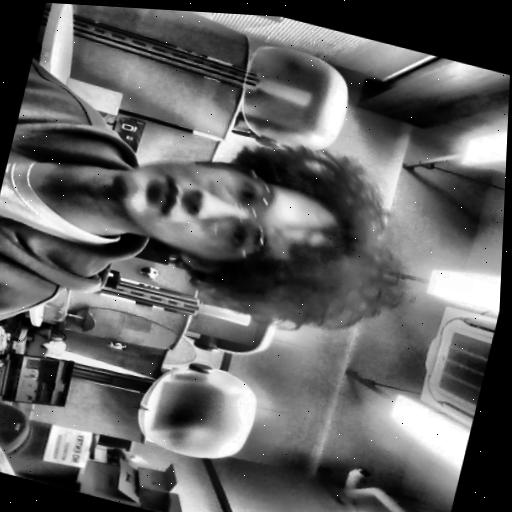Daifuku: (90, 117, 406, 341)
